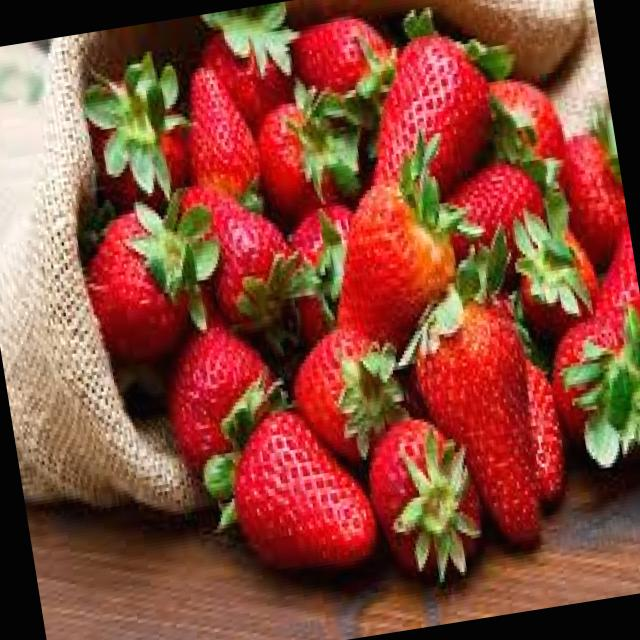strawberry: (412, 306, 558, 562), (213, 398, 383, 576), (346, 15, 499, 204), (322, 182, 456, 370), (182, 166, 318, 328), (76, 192, 208, 348)
